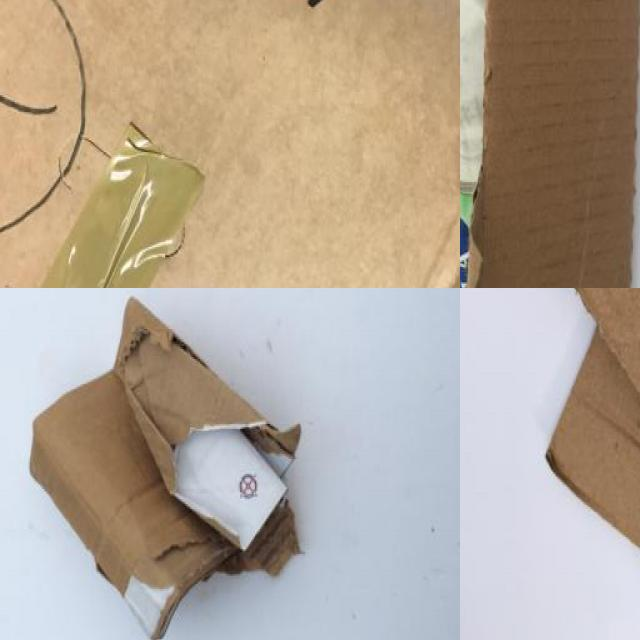class_name: (0, 0, 460, 288), (24, 288, 308, 640), (460, 288, 640, 640), (460, 0, 640, 288)
